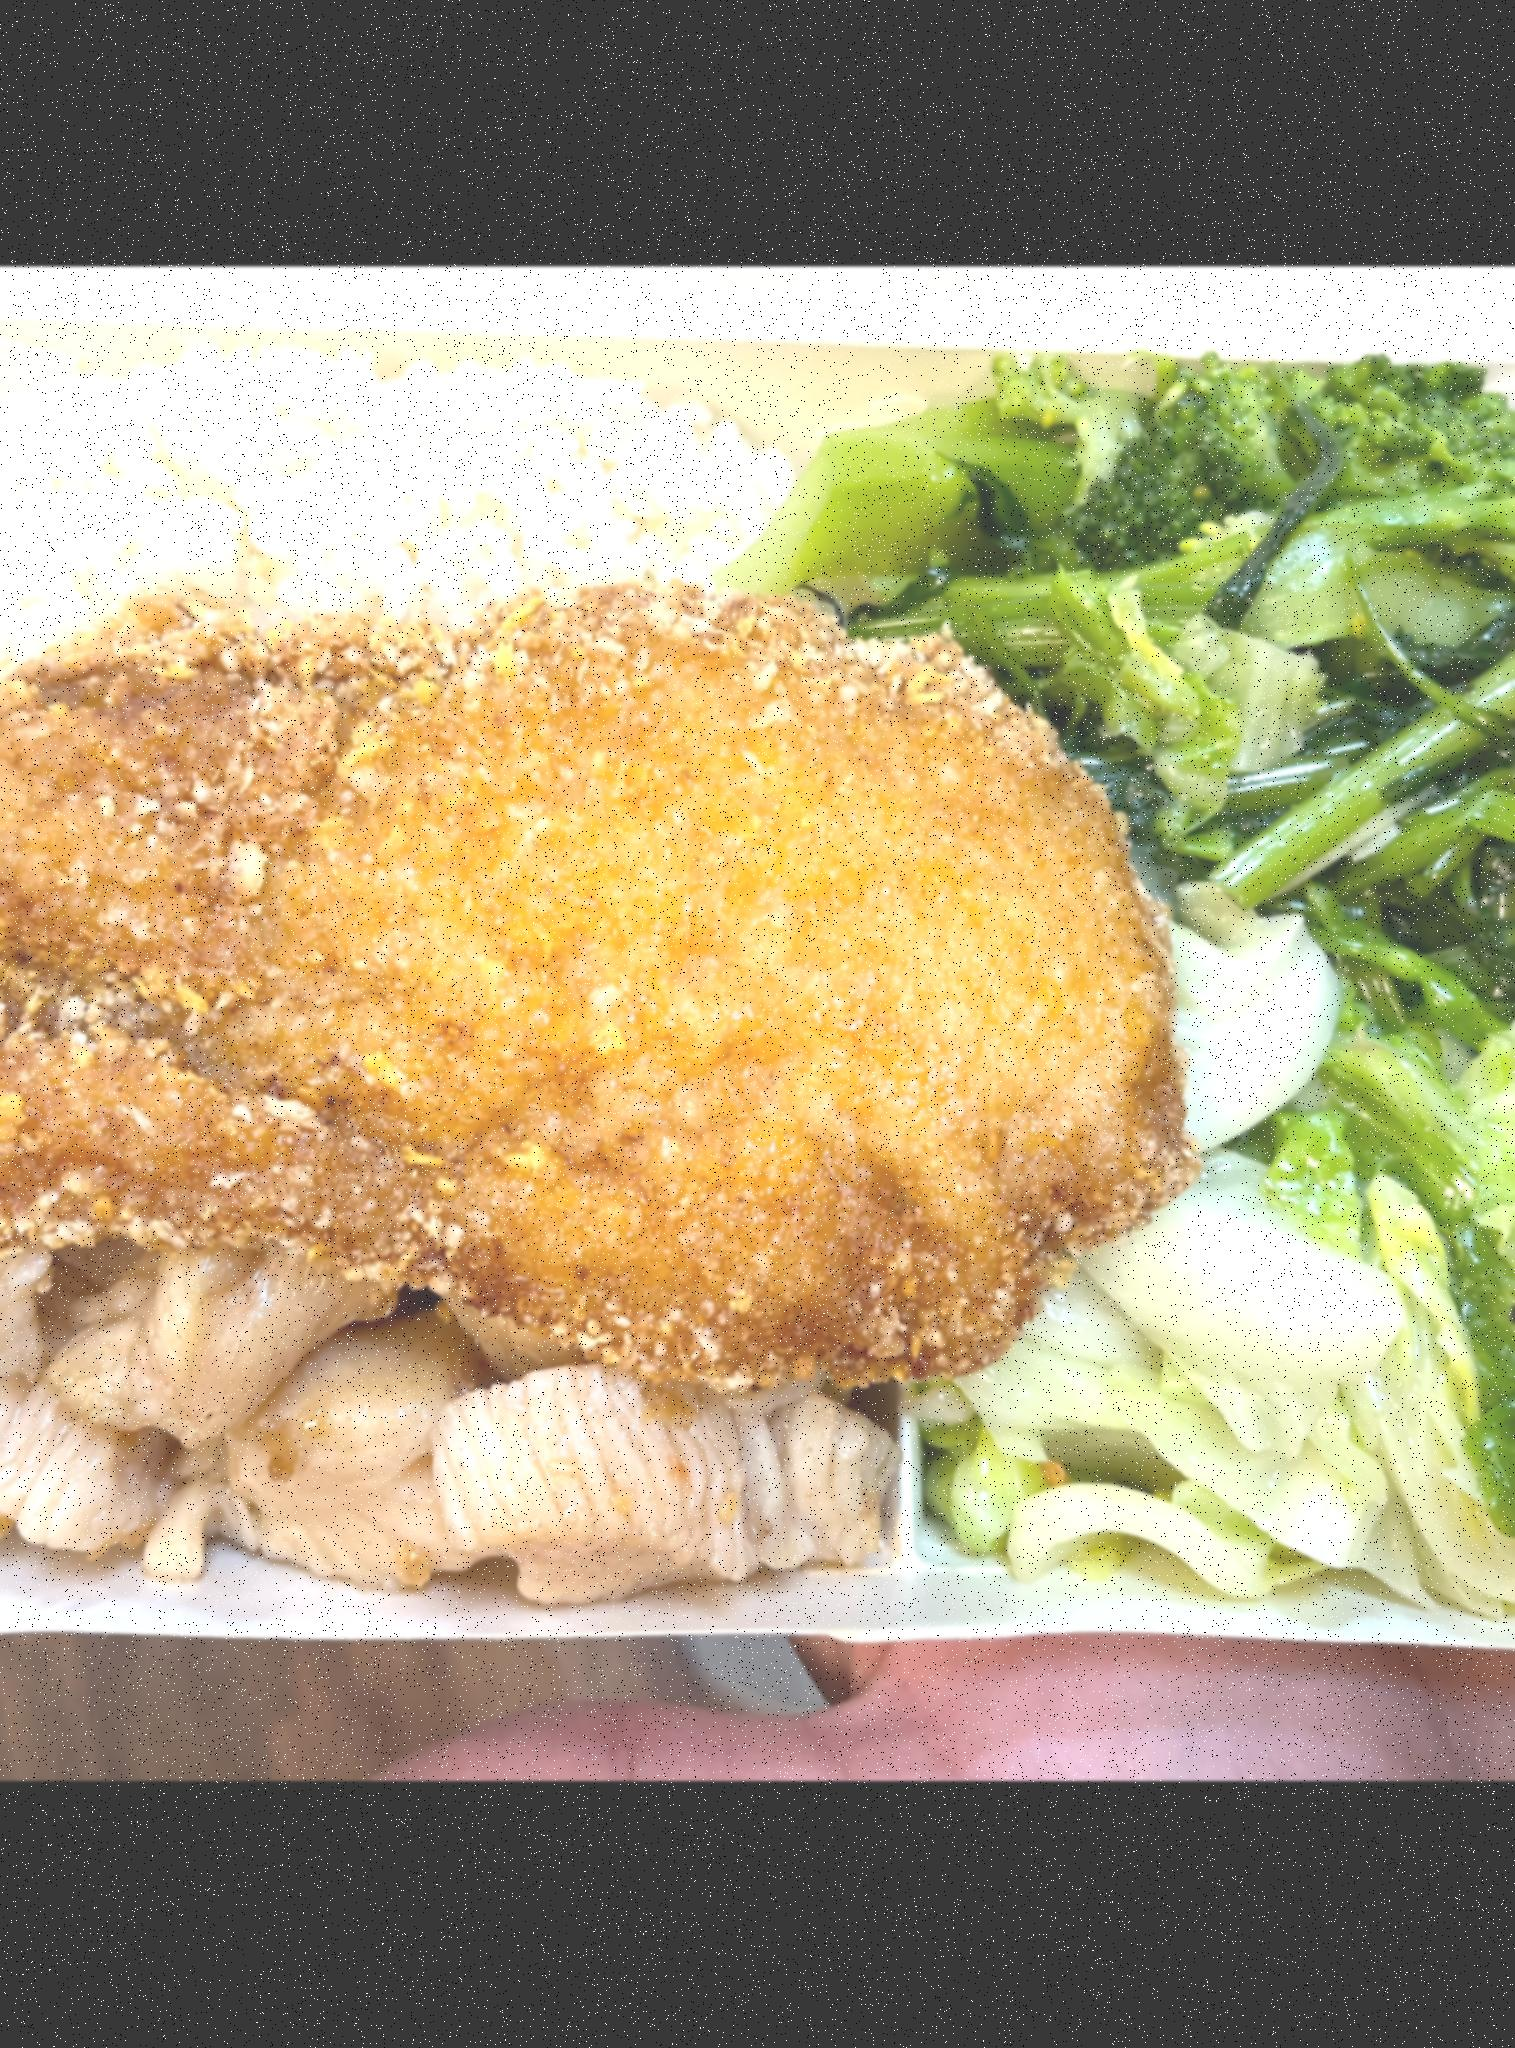box: (0, 282, 1515, 1696)
chicken steak: (0, 594, 1190, 1394)
scallion chicken: (0, 1211, 883, 1626)
side dish: (805, 321, 1515, 1065), (933, 1050, 1515, 1591)
white rice: (0, 325, 823, 687)
